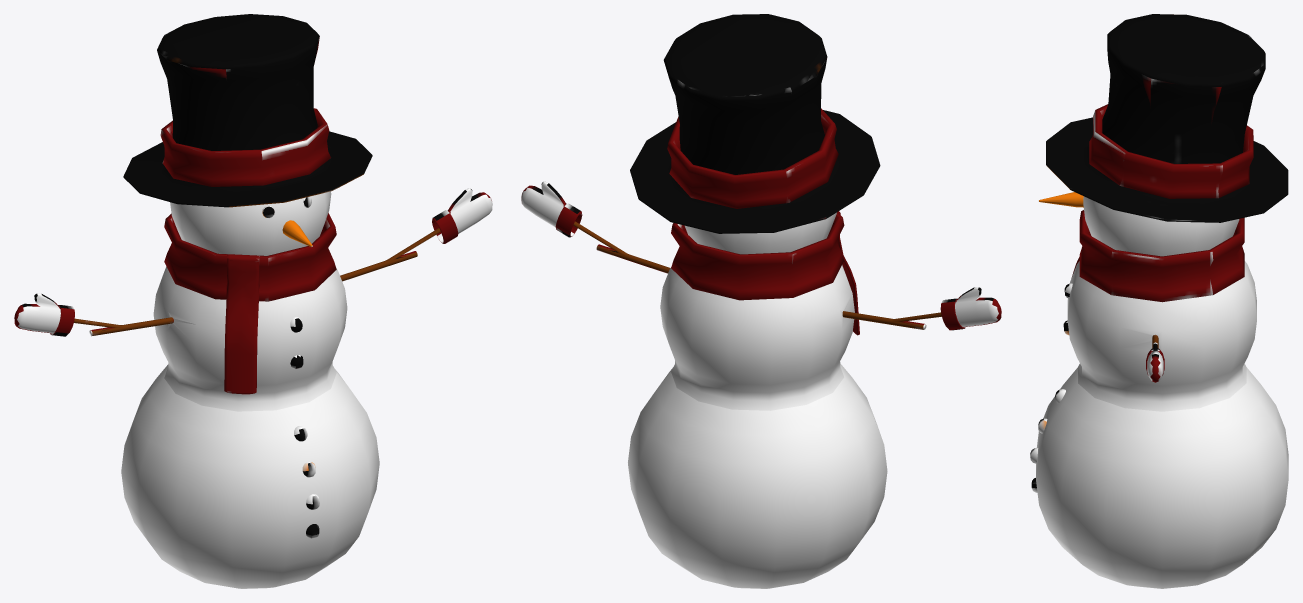
Rendered from snowman.fbx.
3 views of the same model, side by side, from view 1: azimuth 30°, elevation 25°; view 2: azimuth 150°, elevation 25°; view 3: azimuth 270°, elevation 25° (orthographic).
Visible parts, largest first — view 1: polySurface1; view 2: polySurface1; view 3: polySurface1.
Part boxes in pixels (x1,y1,x2,y2): polySurface1: (14, 14, 492, 588); polySurface1: (521, 14, 1001, 588); polySurface1: (1030, 14, 1288, 588).
Bounding box in the file's own units: 16.98 × 18.3 × 7.97.
Materials: 1 (1 with a texture image).
